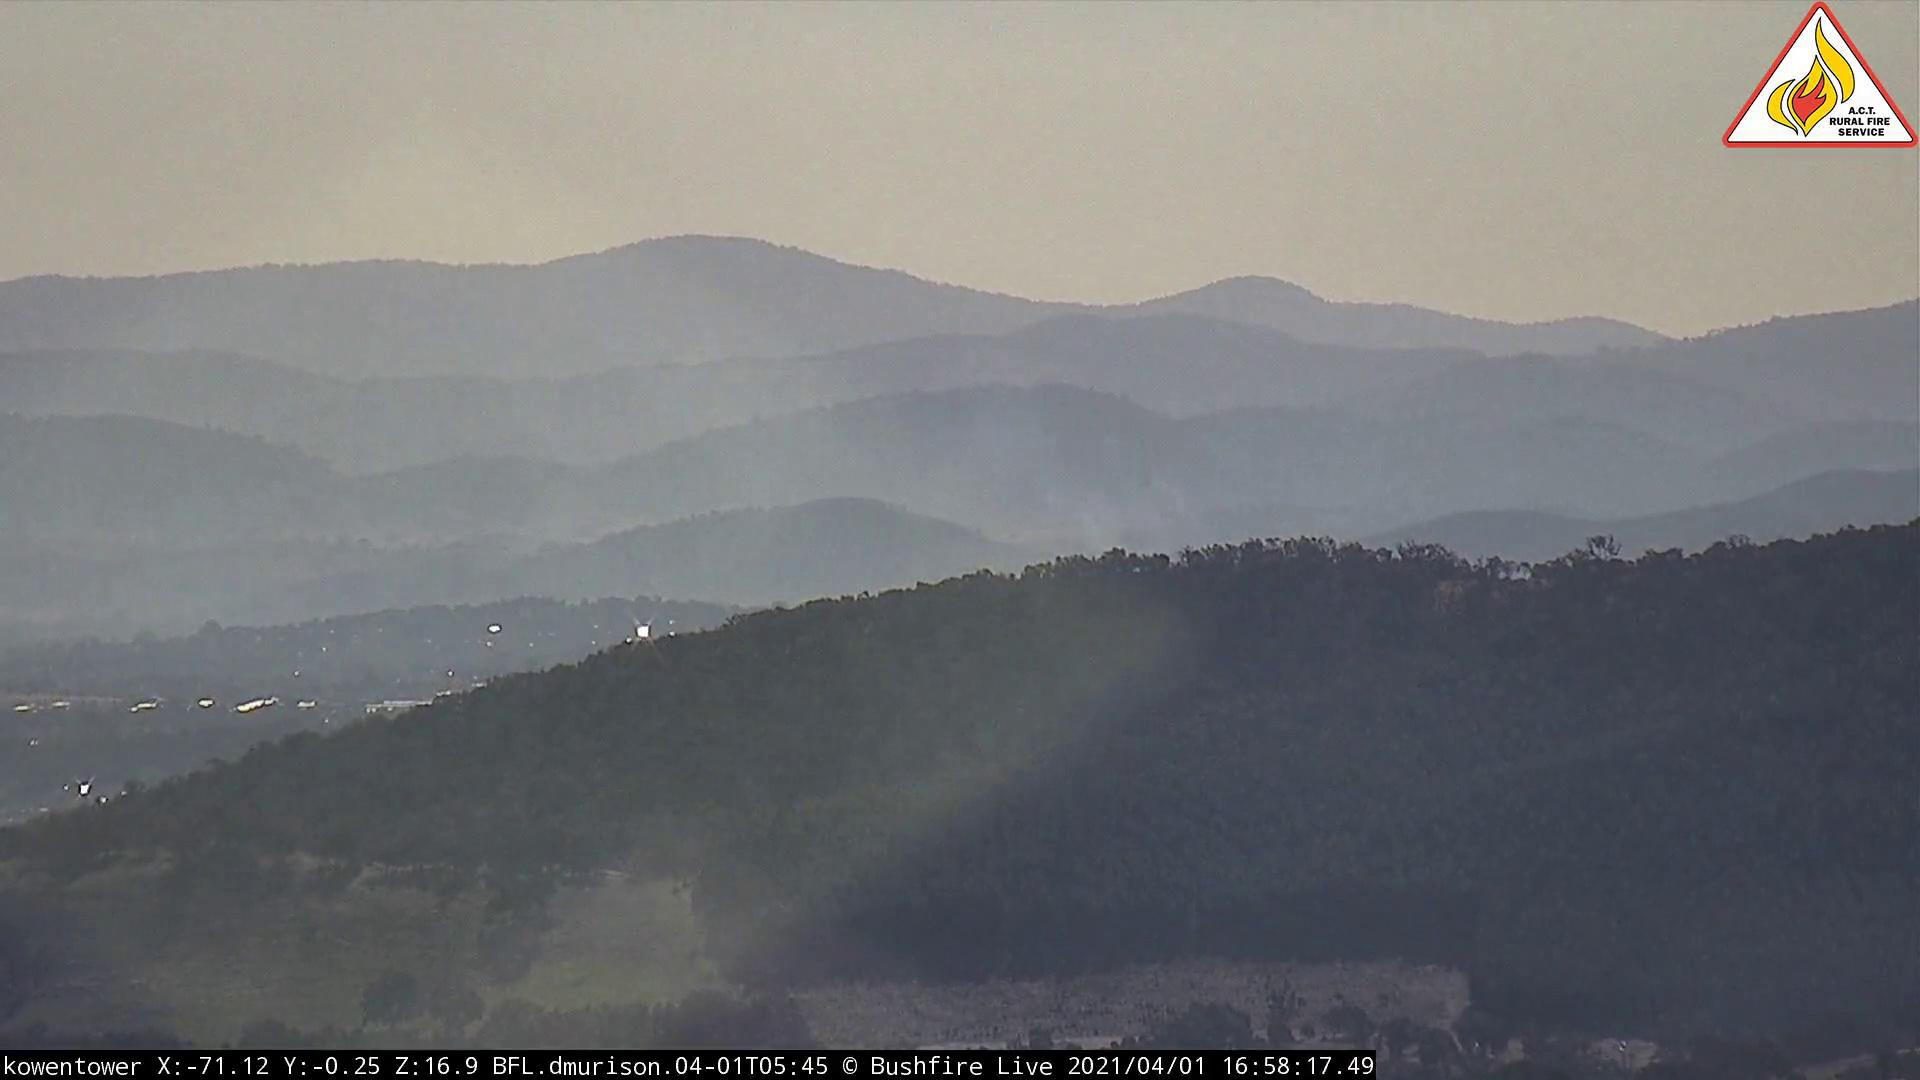instance_salient_object: (903, 404, 1168, 611)
